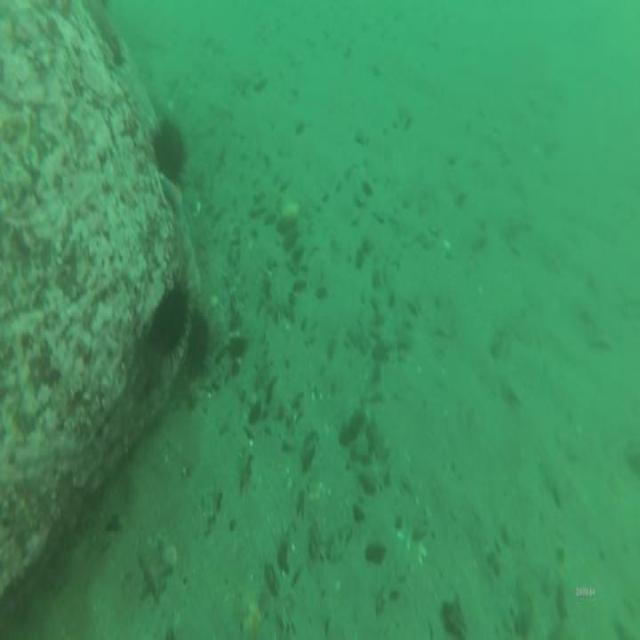echinus: (154, 294, 186, 352), (153, 125, 187, 178), (188, 312, 206, 374)
starfish: (140, 542, 172, 601), (371, 311, 409, 359)
